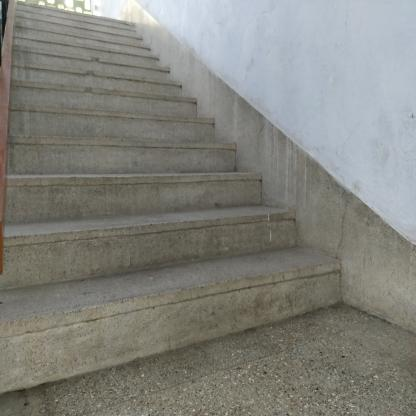stairs: (20, 156, 234, 400)
